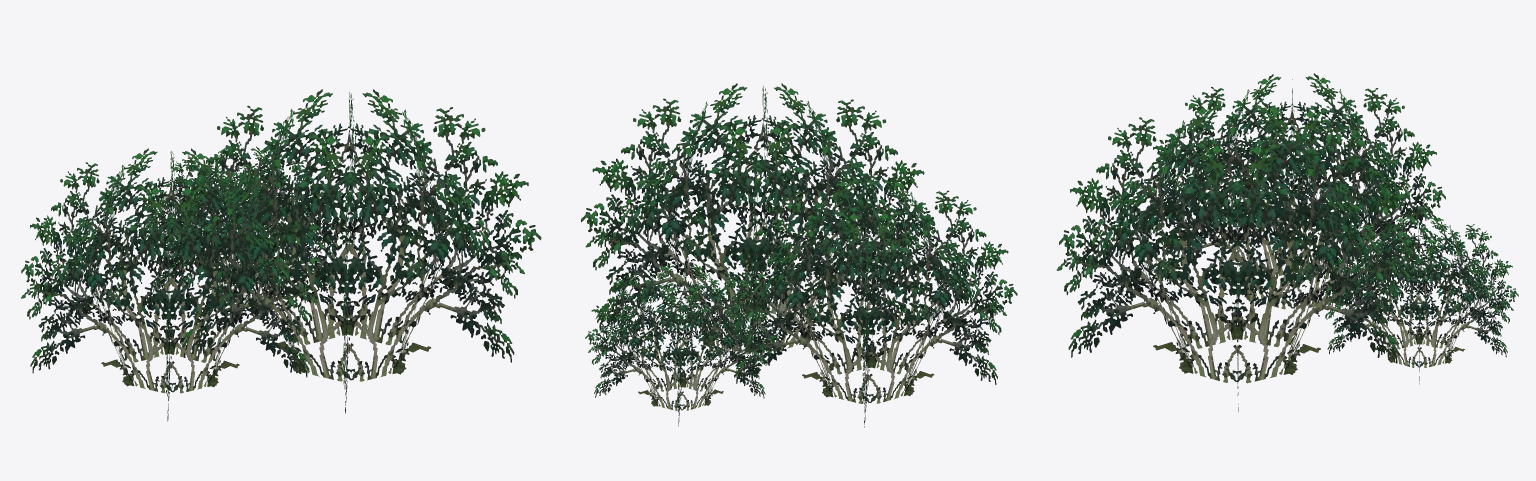
File: cj_graveyard_grass01.glb
The picture shows the model from 3 angles, left to right: view 1: azimuth 30°, elevation 25°; view 2: azimuth 150°, elevation 25°; view 3: azimuth 270°, elevation 25°; orthographic projection. The views are drawn at different scales.
Parts seen in each view (by area): view 1: cj_graveyard_grass01; view 2: cj_graveyard_grass01; view 3: cj_graveyard_grass01.
Part boxes in pixels (box(x1,y1,x2,y2)): cj_graveyard_grass01: box(21, 89, 541, 421); cj_graveyard_grass01: box(581, 83, 1017, 427); cj_graveyard_grass01: box(1056, 73, 1518, 411).
Bounding box in the file's own units: 8.29 × 4.28 × 6.98.
Materials: 1 (1 with a texture image).
